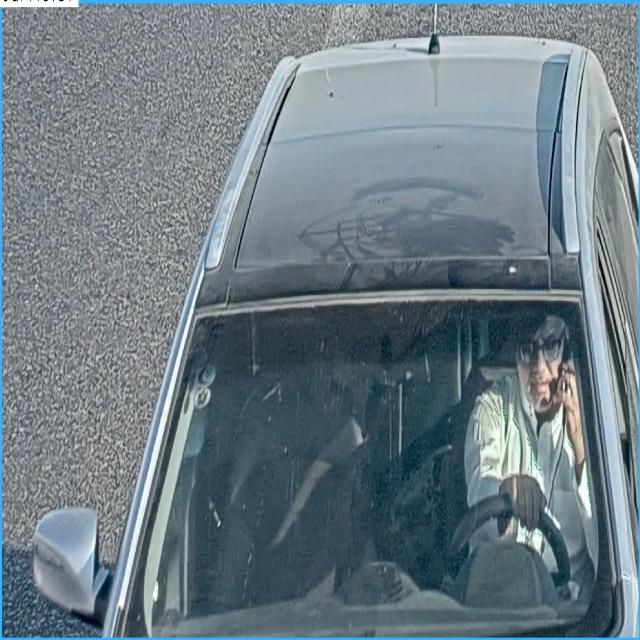windshield: (147, 316, 606, 640)
